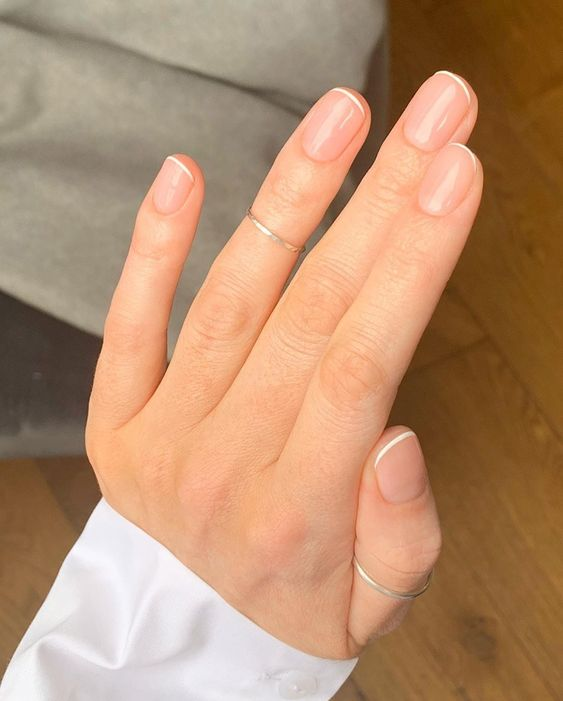nails: (399, 68, 475, 151), (296, 82, 368, 167), (410, 141, 482, 221), (367, 419, 430, 506), (145, 149, 200, 220)
